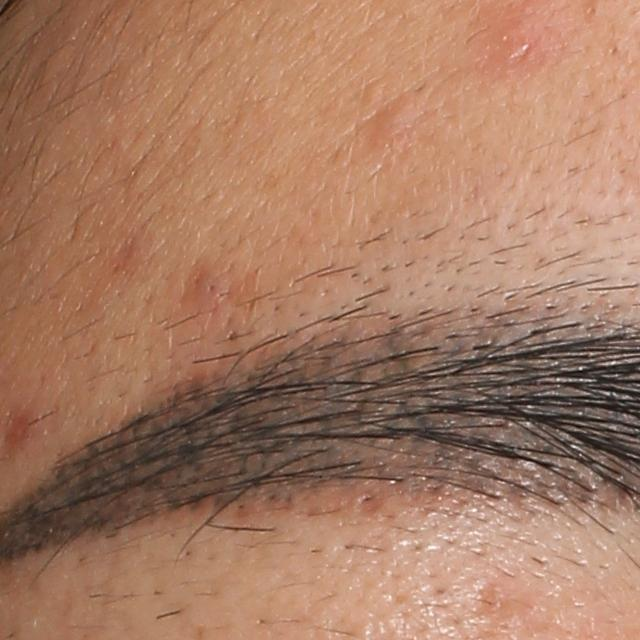papule: (374, 98, 419, 135)
